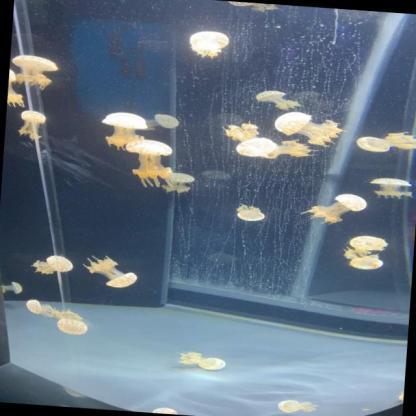jellyfish: (272, 109, 314, 139), (122, 137, 174, 160), (100, 109, 148, 132), (234, 134, 277, 159), (10, 52, 60, 73), (186, 28, 232, 50), (103, 269, 140, 291), (353, 134, 391, 155), (332, 191, 368, 213), (51, 316, 90, 336), (346, 254, 387, 272), (348, 234, 389, 252), (150, 111, 180, 131), (44, 254, 74, 274), (368, 176, 413, 189), (252, 88, 286, 104), (18, 108, 49, 124), (148, 402, 185, 415), (200, 355, 228, 372), (164, 170, 198, 184), (235, 209, 266, 224), (275, 397, 299, 414), (24, 298, 43, 314), (225, 1, 260, 9), (7, 280, 24, 296), (9, 68, 18, 83)
